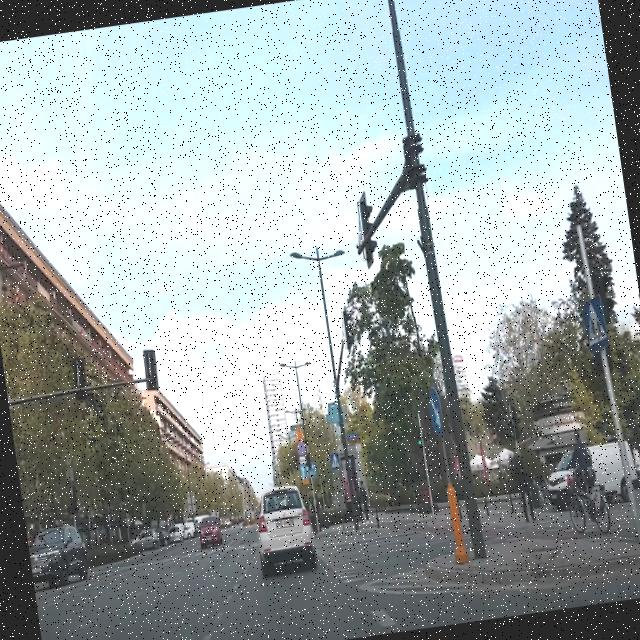Zakaz zatrzymywania sie: (296, 441, 306, 456)
